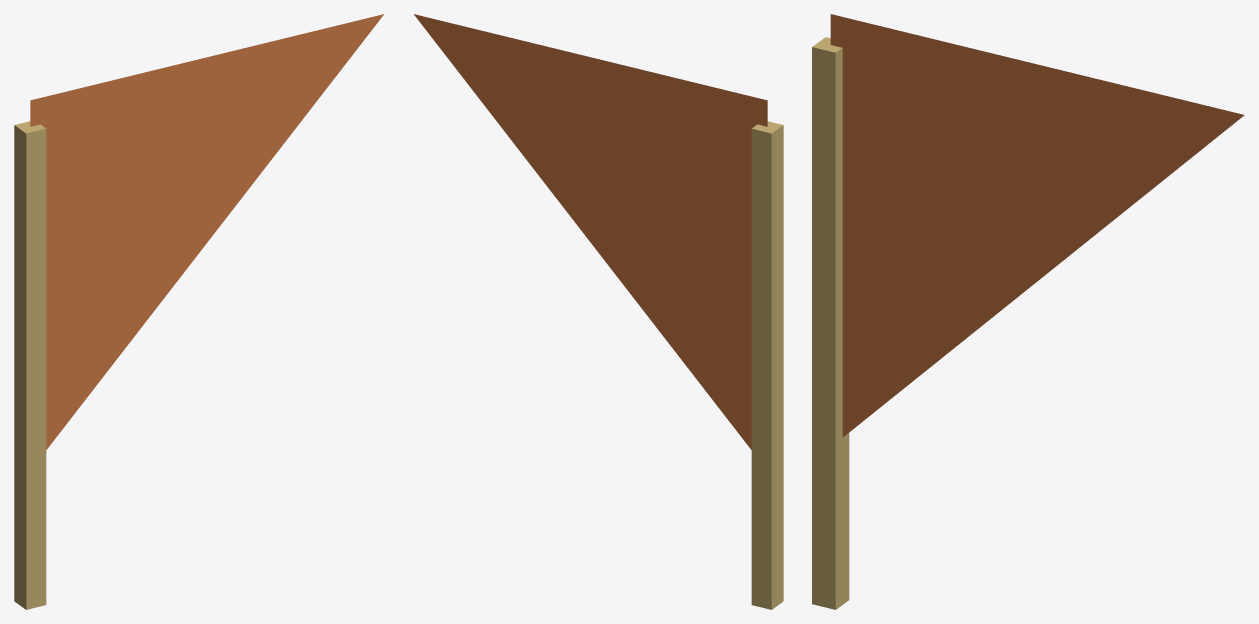
The model's file is pennant-orange.glb.
3 views of the same model, side by side, from view 1: azimuth 30°, elevation 25°; view 2: azimuth 150°, elevation 25°; view 3: azimuth 330°, elevation 25° (orthographic). The views are drawn at different scales.
Parts seen in each view (by area): view 1: flag, pennant-orange; view 2: flag, pennant-orange; view 3: flag, pennant-orange.
Boxes of the visible parts, x1,y1,x2,y2 form: flag: (30, 14, 383, 449); pennant-orange: (14, 121, 46, 609); flag: (414, 14, 767, 449); pennant-orange: (751, 121, 783, 609); flag: (830, 14, 1244, 437); pennant-orange: (812, 37, 849, 609).
Bounding box in the file's own units: 0.36 × 0.475 × 0.02.
